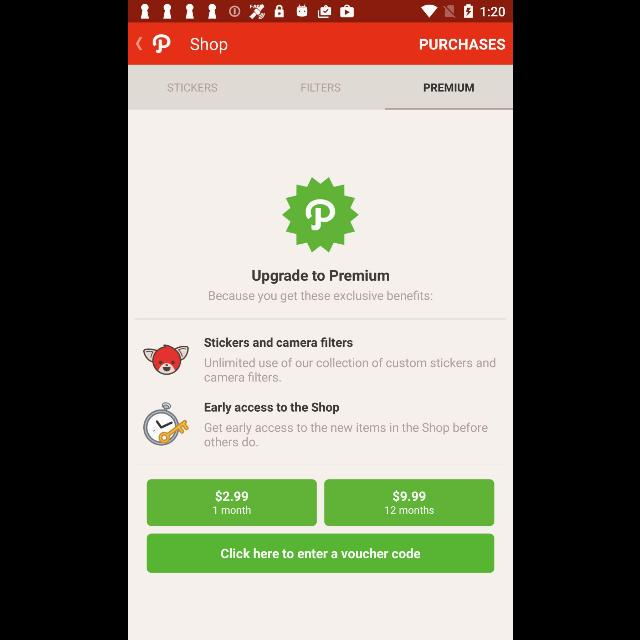icon: (136, 38, 142, 51)
image: (282, 176, 358, 254), (143, 402, 189, 446), (142, 344, 188, 376), (152, 34, 170, 54)
multitab: (128, 66, 512, 110)
text: (203, 358, 494, 382), (204, 423, 486, 447), (208, 291, 432, 303), (252, 270, 388, 284), (204, 402, 338, 414), (204, 338, 352, 347), (419, 39, 505, 51), (189, 37, 227, 54), (423, 84, 473, 92), (167, 84, 217, 92), (300, 84, 340, 92)
textbutton: (146, 534, 494, 572), (324, 479, 494, 526), (146, 479, 316, 526)
toolbar: (128, 23, 512, 65)
uppertaskbar: (128, 1, 512, 23)
